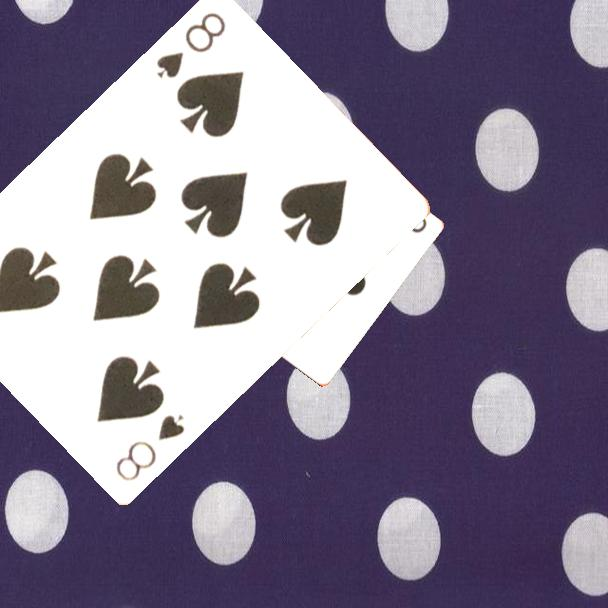s08: (112, 411, 188, 485), (152, 9, 229, 82)
